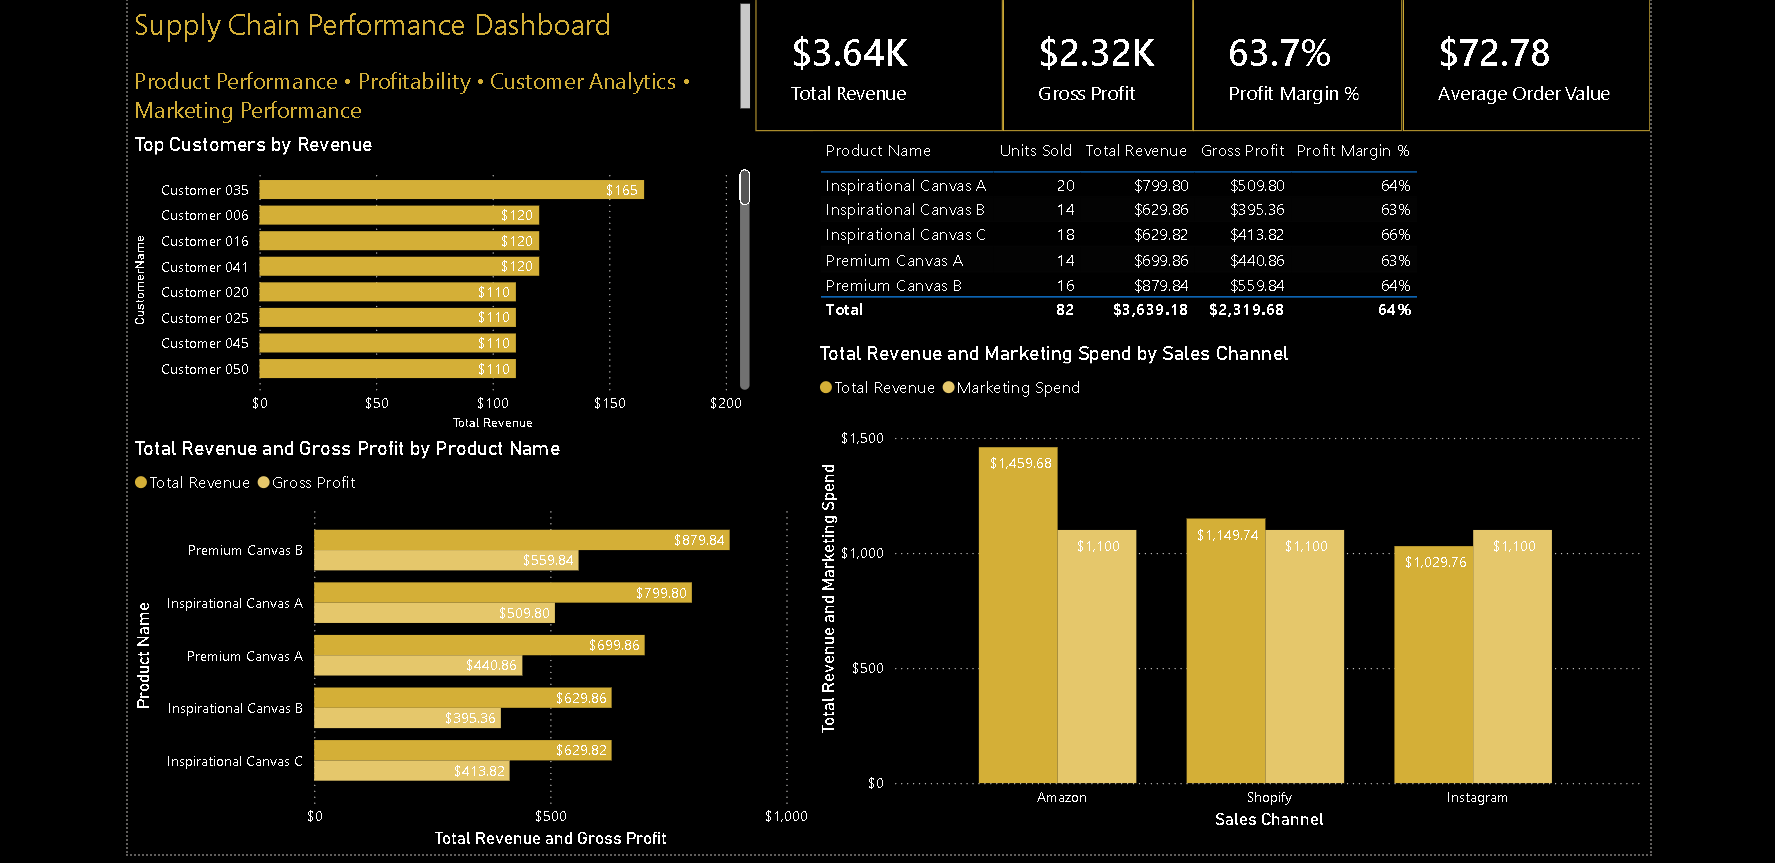

The dashboard page shown, as its layout file describes it:
{"tool":"powerbi","page":{"name":"Supply Chain Performance Dashboard","canvas":[1280,720],"ordinal":1},"visuals":[{"type":"textbox","box":[0,0,528,112],"z":0},{"type":"cardVisual","fields":{"Data":["Customers.Total Revenue"]},"box":[528,0,208,112],"z":1000},{"type":"cardVisual","fields":{"Data":["Products.Gross Profit"]},"box":[736,0,160,112],"z":2000},{"type":"cardVisual","fields":{"Data":["Products.Profit Margin %"]},"box":[896,0,176,112],"z":3000},{"type":"cardVisual","fields":{"Data":["Orders.Average Order Value"]},"box":[1072,0,208,112],"z":4000},{"type":"clusteredBarChart","fields":{"Category":["Products.ProductName"],"Y":["Customers.Total Revenue","Products.Gross Profit"]},"box":[0,368,576,352],"z":5000},{"type":"tableEx","fields":{"Values":["Products.ProductName","OrderItems.Units Sold","Customers.Total Revenue","Products.Gross Profit","Products.Profit Margin %"]},"box":[576,112,704,176],"z":6000},{"type":"clusteredColumnChart","fields":{"Y":["Customers.Total Revenue","MarketingSpend.Marketing Spend"],"Category":["Orders.SalesChannel"]},"box":[576,288,704,416],"z":7000},{"type":"clusteredBarChart","title":"Top Customers by Revenue","fields":{"Y":["Customers.Total Revenue"],"Category":["Customers.CustomerName"]},"box":[0,112,528,256],"z":8000}]}

Visuals, with their boxes on the page's 1280x720 design canvas (x1, y1, x2, y2). These are canvas units, not pixel positions in the 1775x863 screenshot, which may show the page scaled, cropped or inside an application window:
textbox: l=0, t=0, r=528, b=112
cardVisual - Customers.Total Revenue: l=528, t=0, r=736, b=112
cardVisual - Products.Gross Profit: l=736, t=0, r=896, b=112
cardVisual - Products.Profit Margin %: l=896, t=0, r=1072, b=112
cardVisual - Orders.Average Order Value: l=1072, t=0, r=1280, b=112
clusteredBarChart - Products.ProductName x Customers.Total Revenue: l=0, t=368, r=576, b=720
tableEx - Products.ProductName x OrderItems.Units Sold: l=576, t=112, r=1280, b=288
clusteredColumnChart - Customers.Total Revenue x MarketingSpend.Marketing Spend: l=576, t=288, r=1280, b=704
"Top Customers by Revenue" clusteredBarChart: l=0, t=112, r=528, b=368
